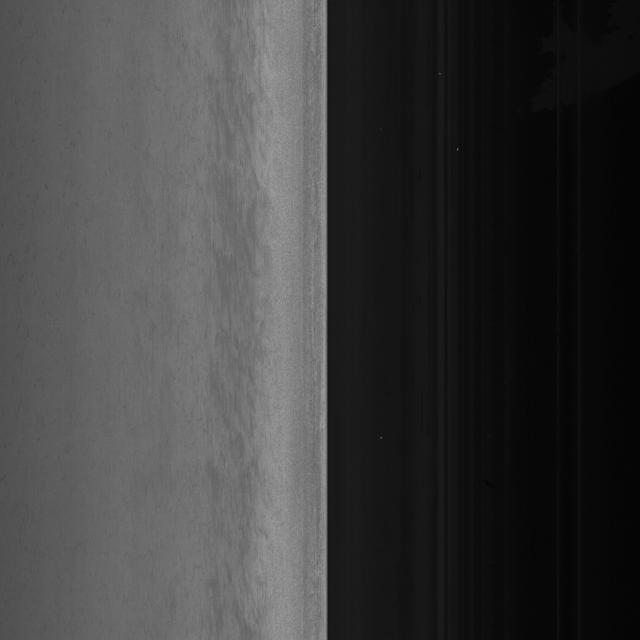inclusion: (213, 241, 271, 448)
